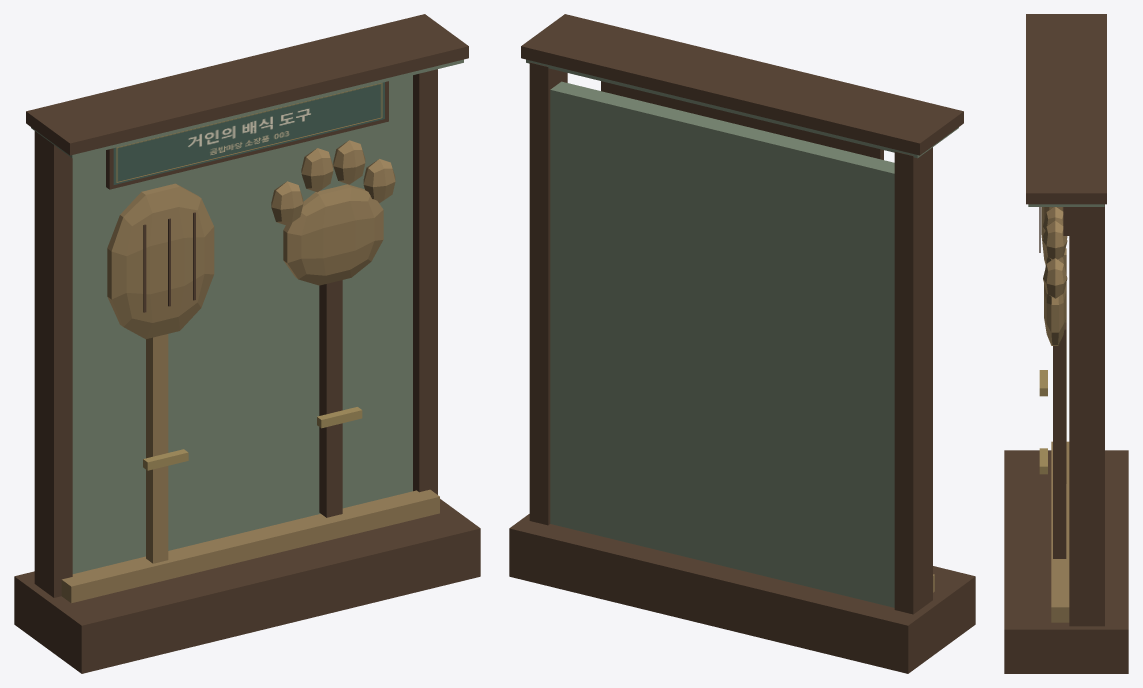
The model's file is L04_Giant_Tool_Exhibit.fbx.
3 views of the same model, side by side, from view 1: azimuth 30°, elevation 25°; view 2: azimuth 150°, elevation 25°; view 3: azimuth 270°, elevation 25° (orthographic). The views are drawn at different scales.
Visible parts, largest first — view 1: Structure.003; view 2: Structure.003; view 3: Structure.003.
Boxes of the visible parts, box(x1,y1,x2,y2) form: Structure.003: box(14, 14, 480, 673); Structure.003: box(509, 14, 975, 673); Structure.003: box(1004, 14, 1128, 673).
Bounding box in the file's own units: 225 × 281 × 66.
Materials: 1 (1 with a texture image).
